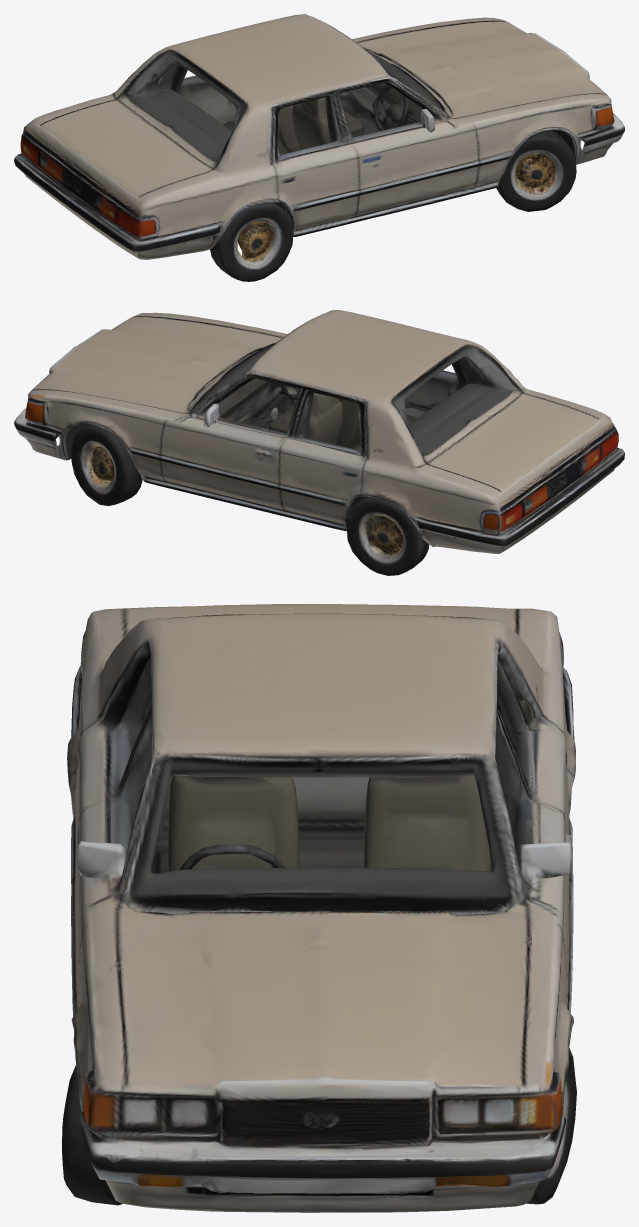
The model's file is model_pbr.glb.
3 views of the same model, one above another, from view 1: azimuth 30°, elevation 25°; view 2: azimuth 150°, elevation 25°; view 3: azimuth 270°, elevation 25° (orthographic). The views are drawn at different scales.
Visible parts, largest first — view 1: tripo_node_508ca996-186f-4bbb-bdbf-a2ca9cf5d0a2; view 2: tripo_node_508ca996-186f-4bbb-bdbf-a2ca9cf5d0a2; view 3: tripo_node_508ca996-186f-4bbb-bdbf-a2ca9cf5d0a2.
Boxes of the visible parts, x1,y1,x2,y2 form: tripo_node_508ca996-186f-4bbb-bdbf-a2ca9cf5d0a2: (14,14,624,281); tripo_node_508ca996-186f-4bbb-bdbf-a2ca9cf5d0a2: (14,310,624,575); tripo_node_508ca996-186f-4bbb-bdbf-a2ca9cf5d0a2: (62,604,576,1212).
Bounding box in the file's own units: 1 × 0.3071 × 0.4414.
Materials: 1 (1 with a texture image).
